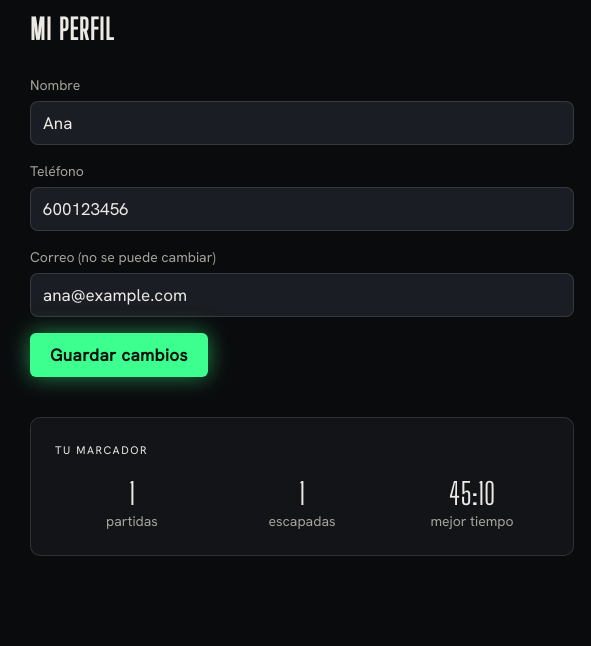
Test: ProfilePage - form › shows an error Alert when the API fails on save
The width and height of the screenshot is (591, 646).
Click the button "Guardar cambios" at x=119, y=355, box [30, 333, 208, 377]
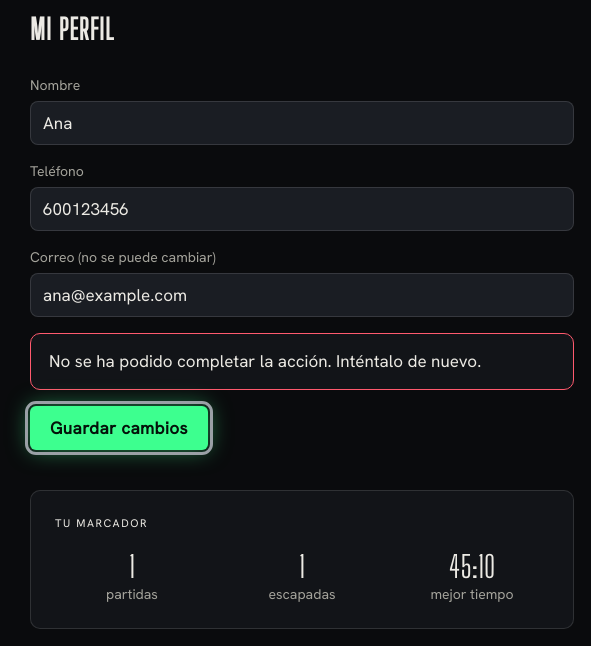
Check: the message reads "No se ha podido completar la acción. Inténtalo de nuevo.", box [49, 350, 481, 372]
